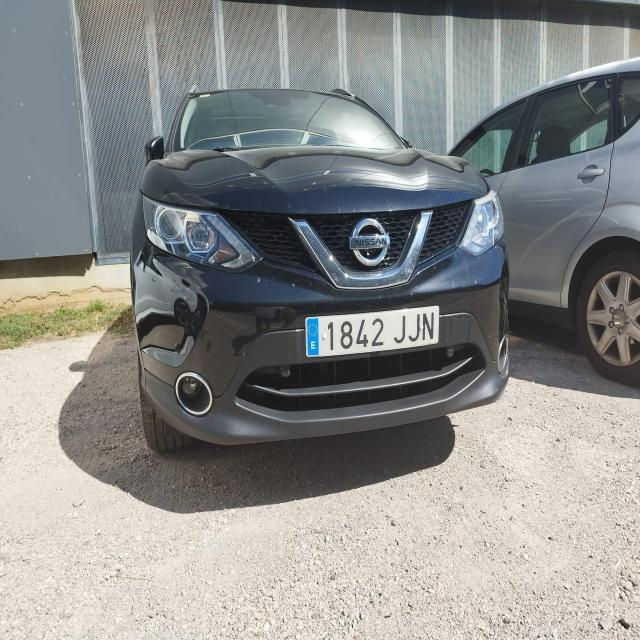plates: (305, 307, 439, 357)
